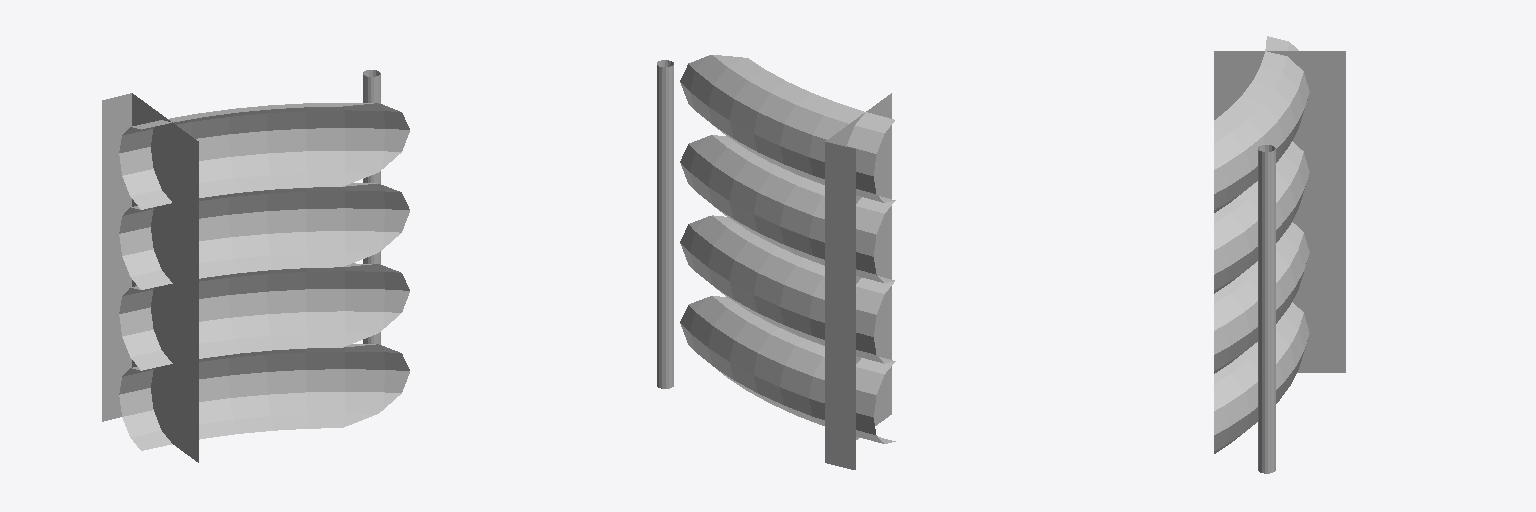
The model's file is tng_core2_b.obj.
The picture shows the model from 3 angles: view 1: azimuth 30°, elevation 25°; view 2: azimuth 150°, elevation 25°; view 3: azimuth 270°, elevation 25°; orthographic projection.
Parts seen in each view (by area): view 1: WarpGroupB_meshB; view 2: WarpGroupB_meshB; view 3: WarpGroupB_meshB.
Part boxes in pixels (left/top/right/bottom): WarpGroupB_meshB: left=102, top=70, right=409, bottom=462; WarpGroupB_meshB: left=657, top=55, right=895, bottom=469; WarpGroupB_meshB: left=1214, top=36, right=1345, bottom=473.
Size of the model in its own units: 0.7892 by 1 by 0.374.